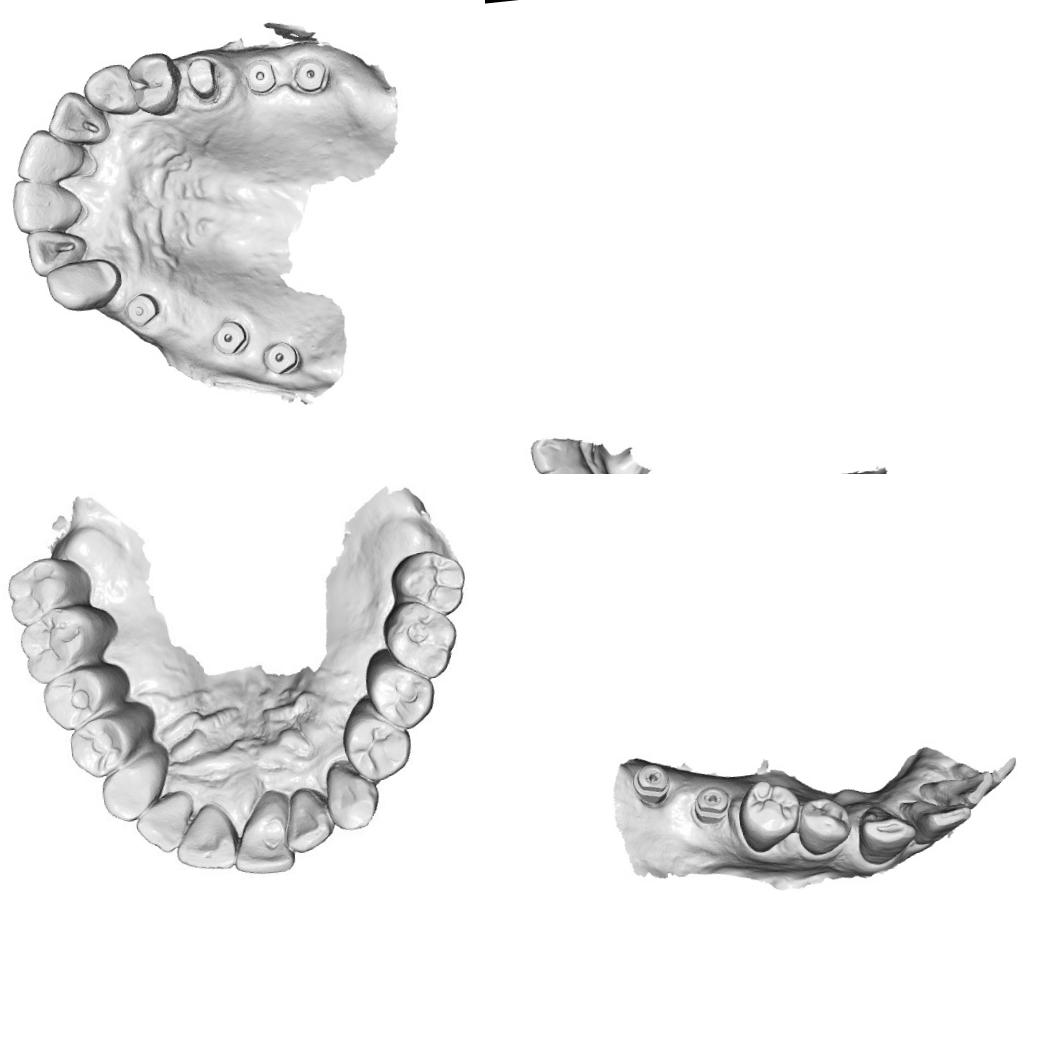canine: (94, 749, 172, 829), (43, 255, 123, 317), (319, 758, 381, 834), (855, 800, 920, 868), (80, 60, 140, 122)
crown: (182, 52, 224, 104)
implant: (260, 337, 303, 378), (208, 317, 250, 358), (242, 54, 281, 98), (291, 54, 331, 95), (122, 290, 162, 330)
implant_minus: (629, 759, 673, 809), (688, 782, 734, 828)
incisor: (229, 786, 300, 873), (130, 786, 200, 859), (10, 124, 89, 185), (7, 175, 86, 236), (167, 805, 240, 871), (43, 86, 112, 150), (898, 791, 974, 848), (22, 224, 92, 280), (282, 785, 338, 854), (917, 768, 998, 814), (528, 432, 589, 474)
molar: (380, 594, 460, 682), (18, 606, 102, 681), (390, 546, 470, 616), (3, 558, 72, 625)
premolar: (352, 642, 438, 734), (332, 691, 416, 784), (734, 776, 803, 856), (66, 710, 134, 776), (41, 667, 110, 732), (123, 49, 186, 120), (793, 793, 855, 858)
